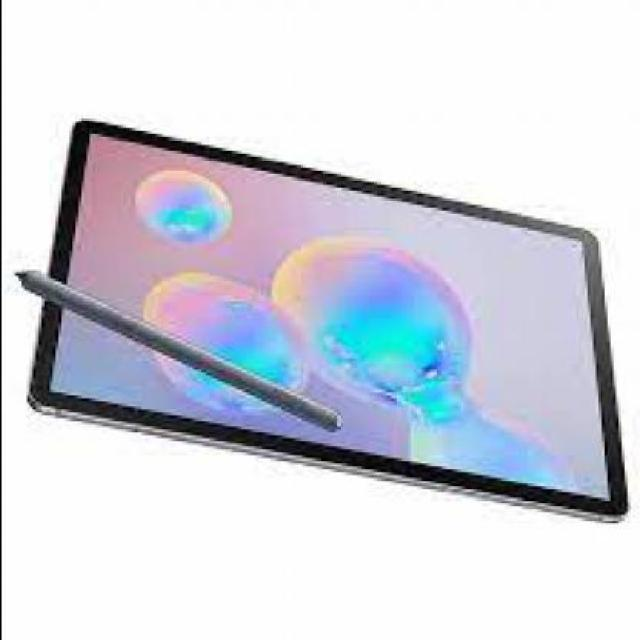tablet: (19, 36, 627, 535)
